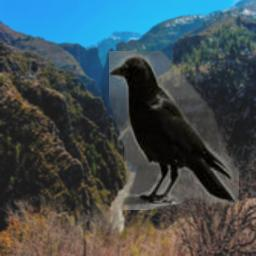Crow: (109, 51, 239, 210)
